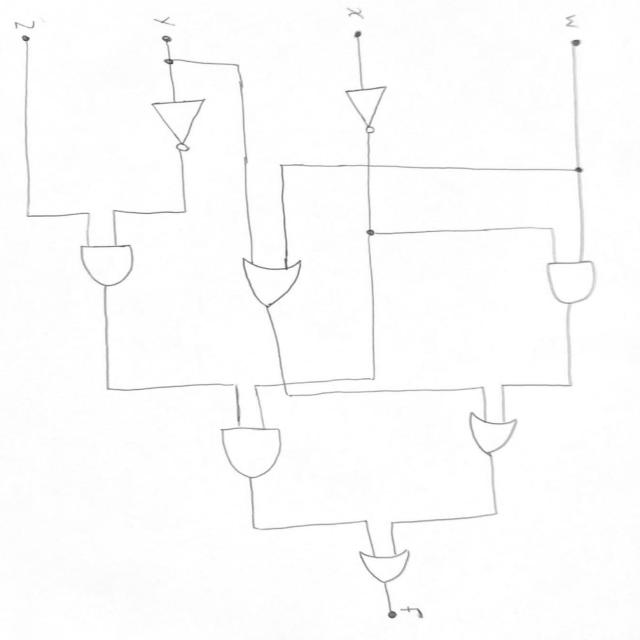AND: (205, 420, 303, 485), (531, 256, 614, 317), (72, 243, 156, 291)
NOT: (137, 96, 223, 162), (328, 82, 410, 136)
OR: (231, 249, 331, 315), (454, 407, 542, 461), (343, 547, 436, 587)
